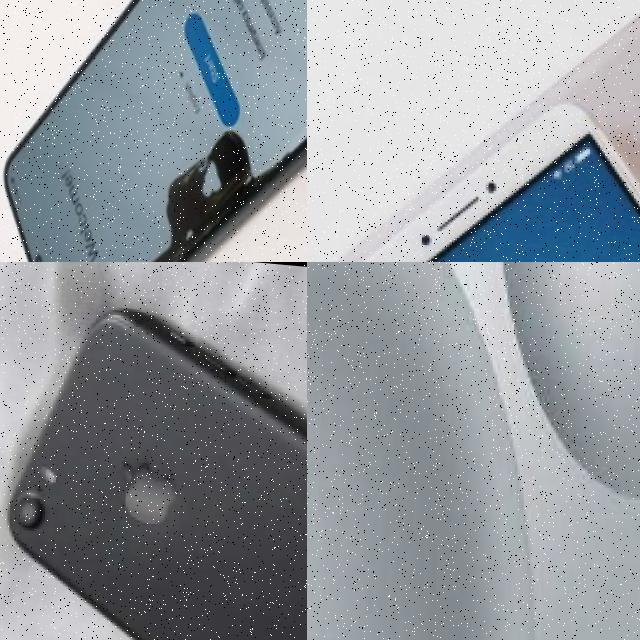dead pixel: (72, 91, 307, 262)
